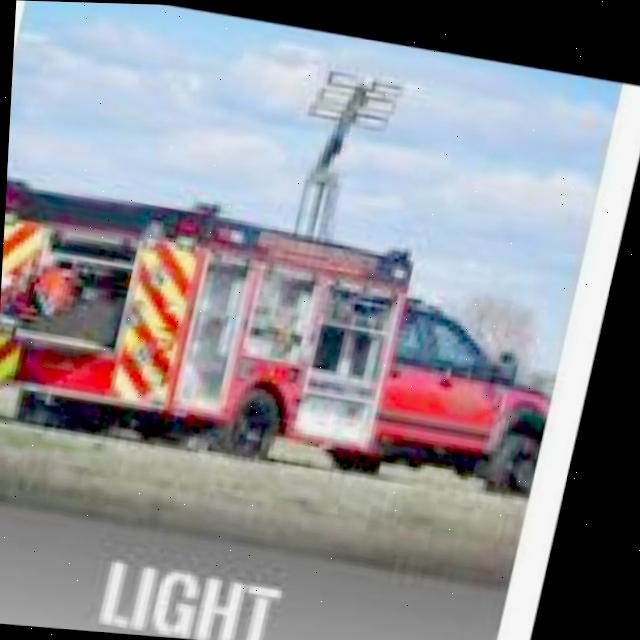emergency: (0, 174, 560, 491)
